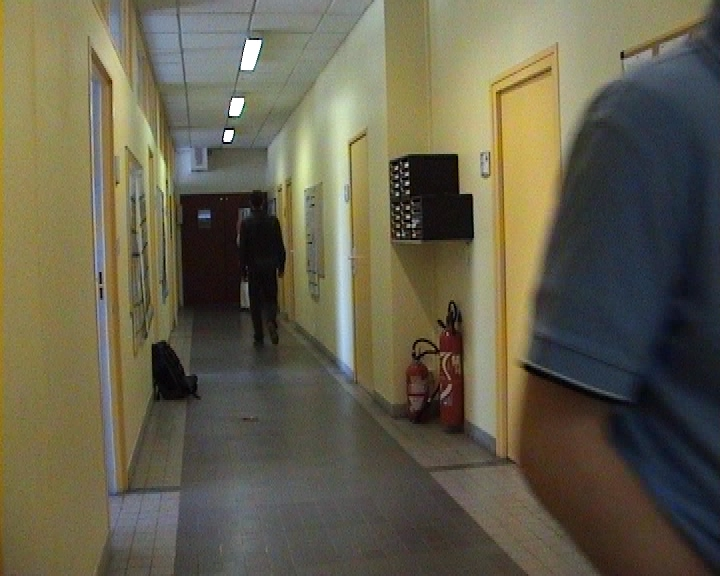leave bag unattended: (138, 323, 242, 426)
